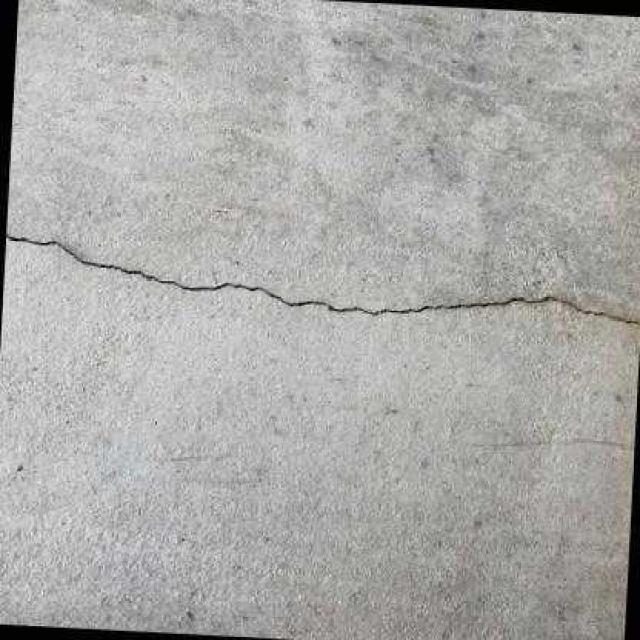D00: (4, 231, 640, 326)
